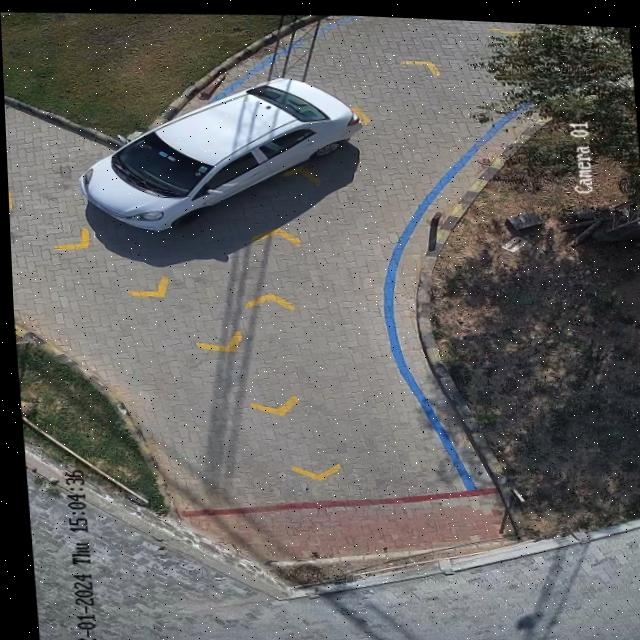car: (76, 75, 361, 230)
